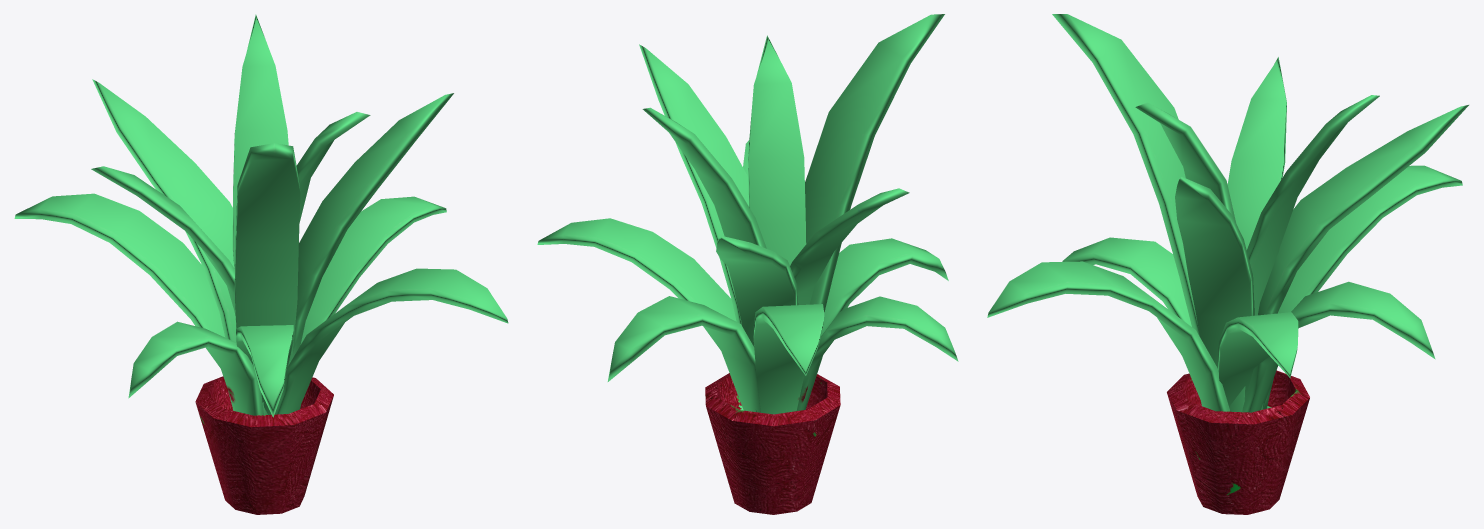
The model's file is Potted Plant.fbx.
The picture shows the model from 3 angles, left to right: view 1: azimuth 30°, elevation 25°; view 2: azimuth 150°, elevation 25°; view 3: azimuth 270°, elevation 25°; orthographic projection. The views are drawn at different scales.
Parts seen in each view (by area): view 1: node_id10, node_id13; view 2: node_id10, node_id13; view 3: node_id10, node_id13.
Part boxes in pixels (x1=…): node_id10: x1=14, y1=14, x2=508, y2=417; node_id13: x1=195, y1=376, x2=333, y2=514; node_id10: x1=537, y1=14, x2=958, y2=414; node_id13: x1=705, y1=373, x2=840, y2=514; node_id10: x1=987, y1=14, x2=1468, y2=412; node_id13: x1=1167, y1=370, x2=1309, y2=514.
Size of the model in its own units: 0.4022 by 0.4543 by 0.4441.
2 materials, 2 textured.
